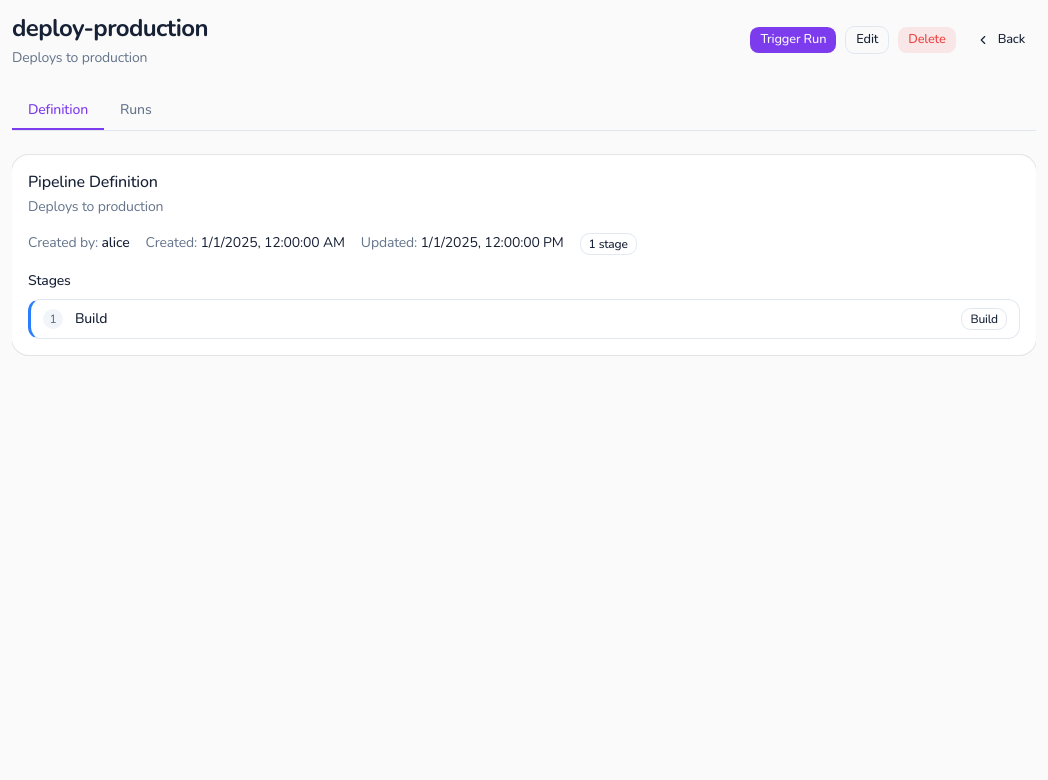
PipelineDetailClient › shows the edit form when Edit is clicked
This screenshot has width=1048, height=780.
Click the button "Edit".
click(867, 40)  # box x1=845 y1=26 x2=889 y2=54
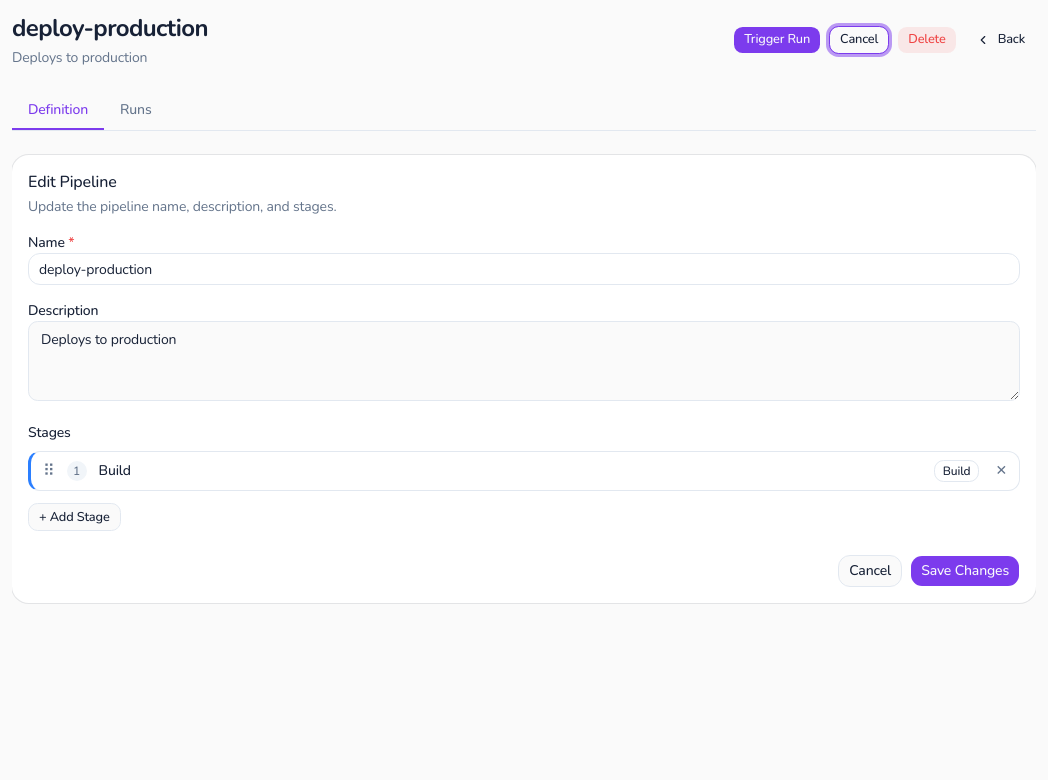
Expected: the text "Edit Pipeline" is shown, x1=28 y1=171 x2=117 y2=193
Expected: the field labelled "Name *" is shown, x1=28 y1=253 x2=1020 y2=285
